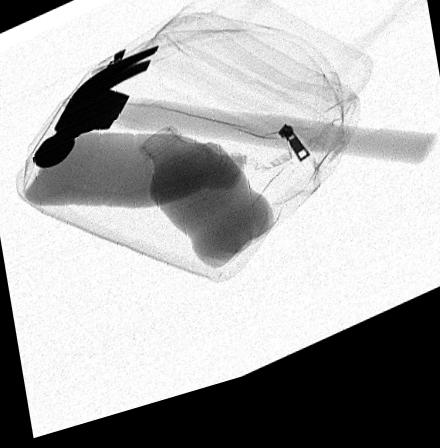Hammer: (31, 52, 439, 189)
